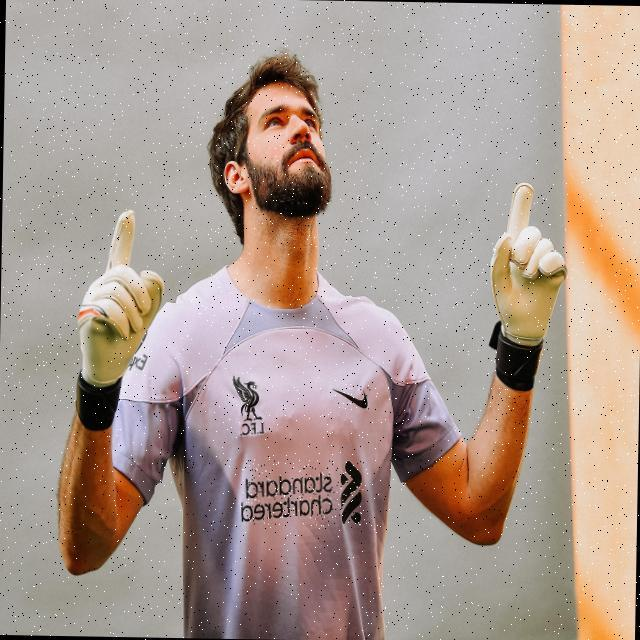Nike: (334, 383, 370, 409)
Standard Chartered: (241, 458, 366, 527)
